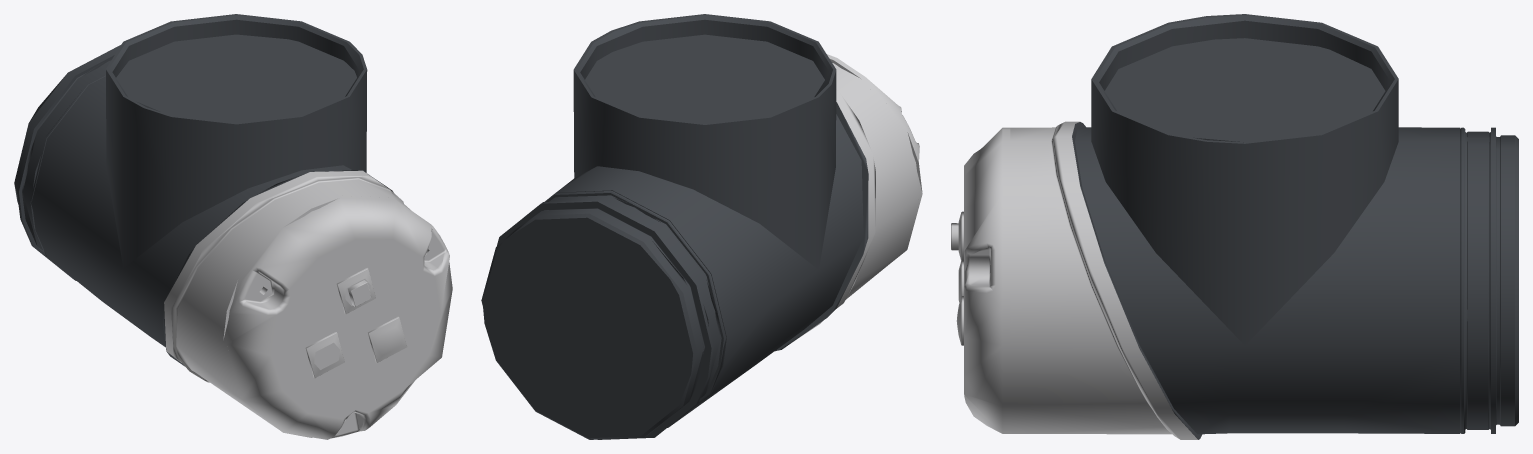
3 renders of one model, left to right at view 1: azimuth 30°, elevation 25°; view 2: azimuth 150°, elevation 25°; view 3: azimuth 270°, elevation 25°, orthographic. The views are drawn at different scales.
Visible parts, largest first — view 1: GBT-C7A-J5.001; view 2: GBT-C7A-J5.001; view 3: GBT-C7A-J5.001.
Part boxes in pixels (bbox=[...]): GBT-C7A-J5.001: bbox=[14, 14, 452, 439]; GBT-C7A-J5.001: bbox=[481, 14, 922, 439]; GBT-C7A-J5.001: bbox=[951, 14, 1518, 439].
Bounding box in the file's own units: 0.083 × 0.1478 × 0.0995.
1 material, 1 textured.
